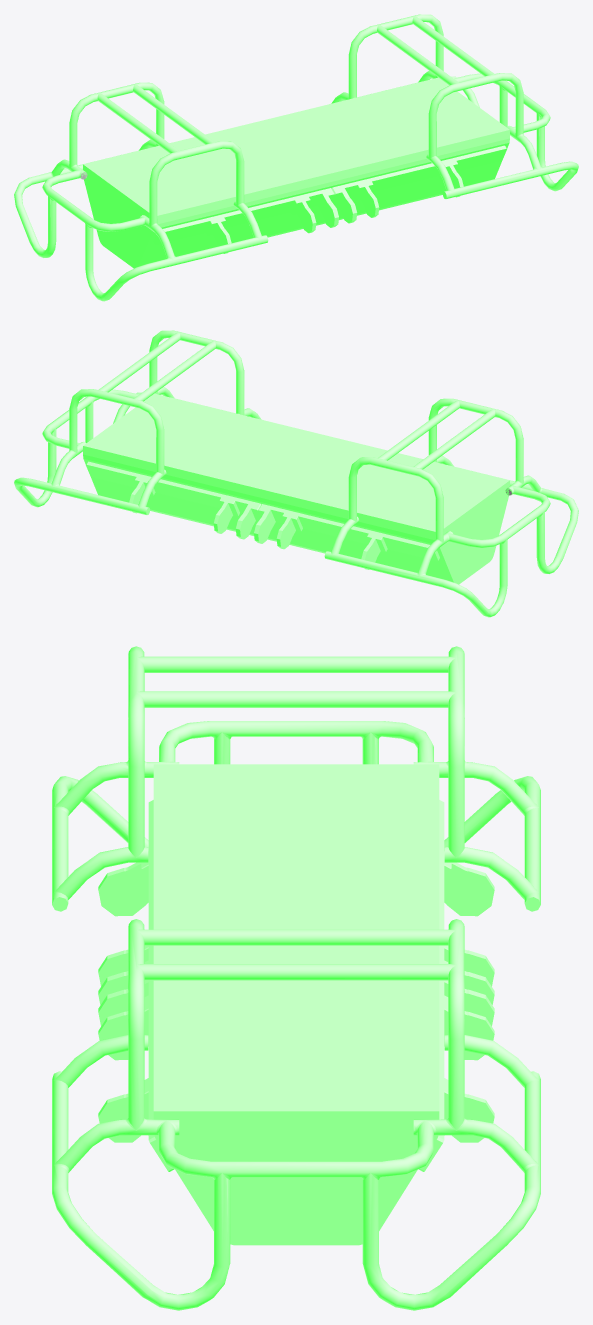
Rendered from trunk.dae.
3 renders of one model, top to bottom at view 1: azimuth 30°, elevation 25°; view 2: azimuth 150°, elevation 25°; view 3: azimuth 270°, elevation 25°, orthographic. The views are drawn at different scales.
Visible parts, largest first — view 1: Frame_000; view 2: Frame_000; view 3: Frame_000.
Boxes of the visible parts, x1,y1,x2,y2 form: Frame_000: (14, 14, 578, 301); Frame_000: (14, 330, 578, 617); Frame_000: (52, 646, 540, 1310).
Size of the model in its own units: 1.29 by 0.5954 by 0.3737.
